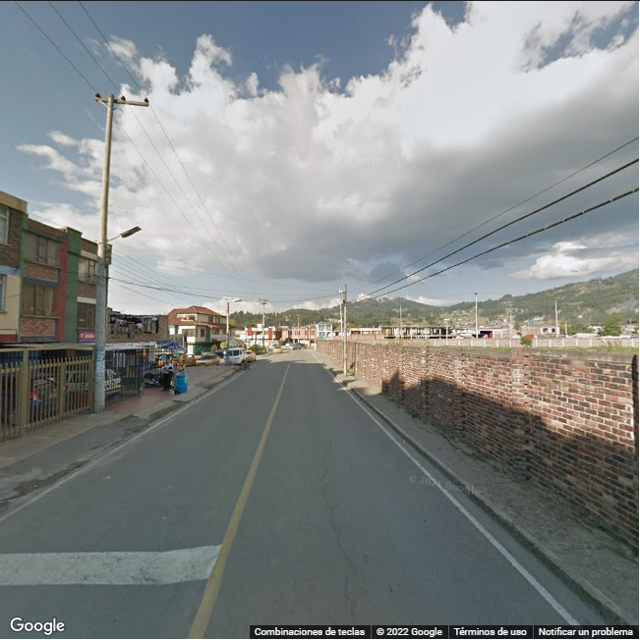D00: (322, 476, 357, 626)
